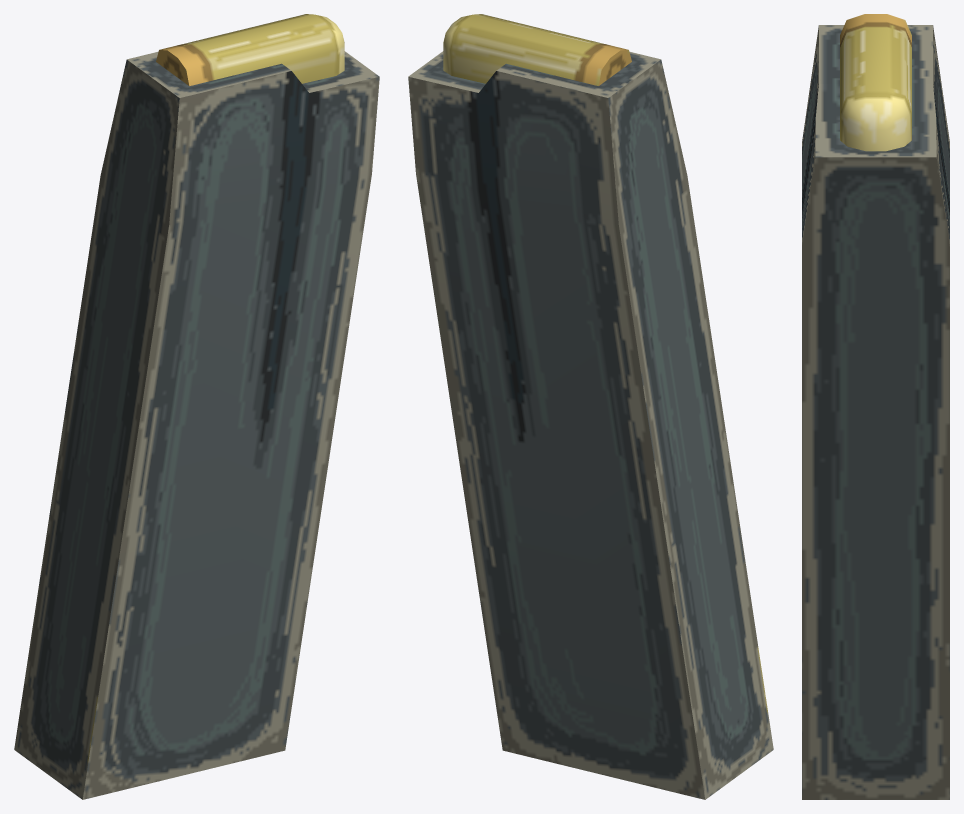
File: handgun_mag.gltf
3 renders of one model, left to right at view 1: azimuth 30°, elevation 25°; view 2: azimuth 150°, elevation 25°; view 3: azimuth 270°, elevation 25°, orthographic. The views are drawn at different scales.
Visible parts, largest first — view 1: Cube; view 2: Cube; view 3: Cube.
Part boxes in pixels (left/top/right/bottom): Cube: left=14, top=14, right=379, bottom=799; Cube: left=408, top=14, right=773, bottom=799; Cube: left=802, top=14, right=949, bottom=799.
Size of the model in its own units: 0.3087 by 0.6715 by 0.1208.
1 material, 1 textured.
